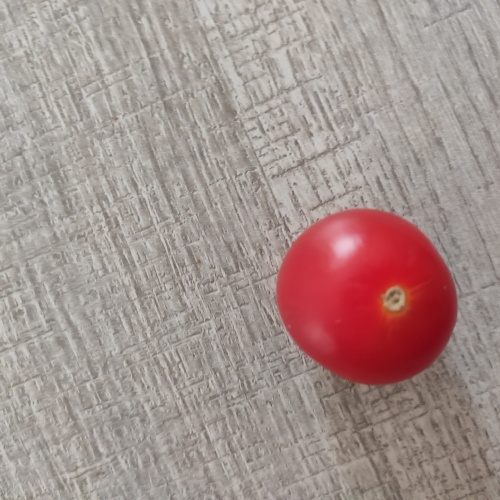pomodoro: (273, 206, 463, 389)
